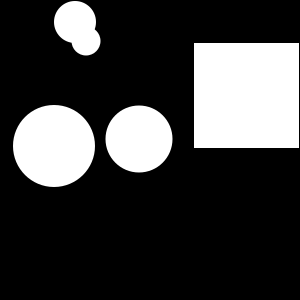circle: (194, 43, 299, 148)
rectangle: (13, 105, 95, 187), (106, 106, 172, 172), (54, 1, 96, 43), (72, 26, 100, 56)
